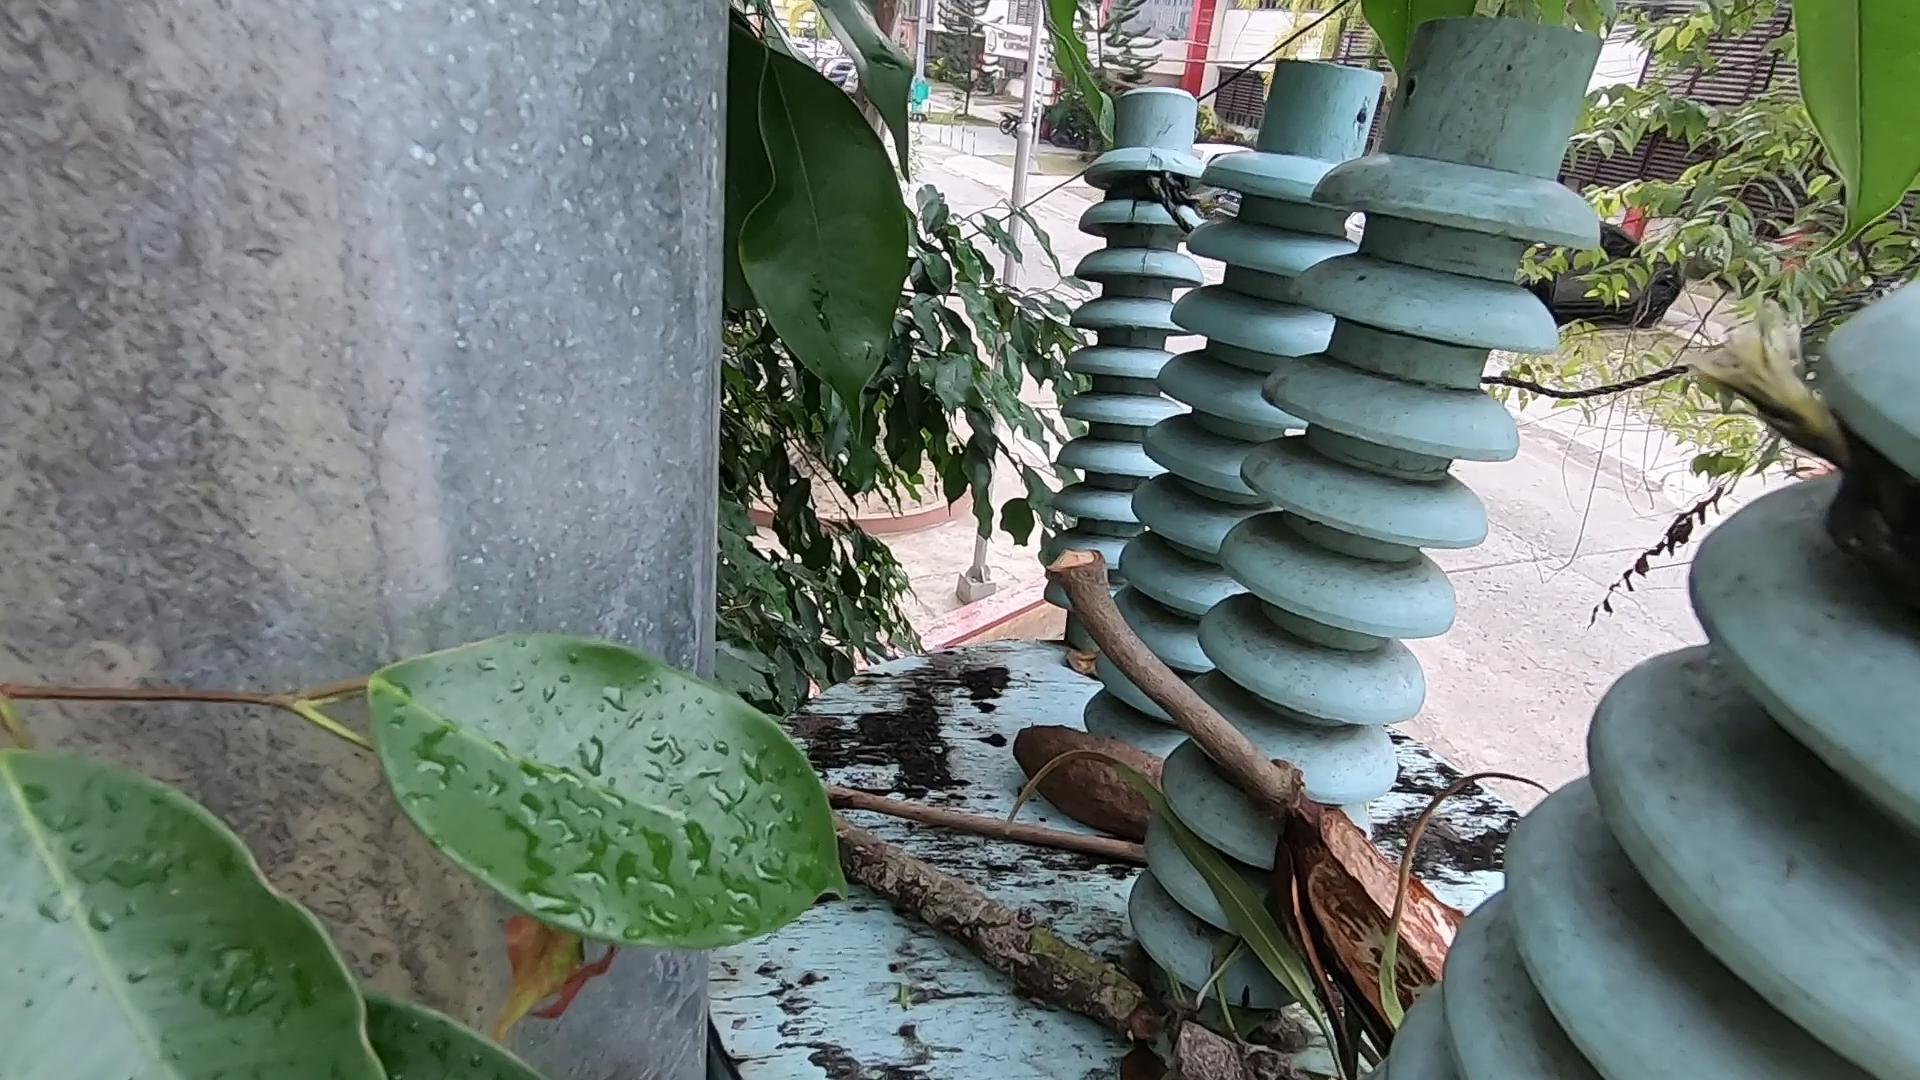branch with leaves: (833, 822, 1240, 1073)
leaf: (1036, 767, 1346, 1080)
mahogany fruit: (1261, 822, 1499, 1017), (985, 676, 1185, 849)
tree branch: (1065, 553, 1313, 825), (820, 790, 1143, 858)
